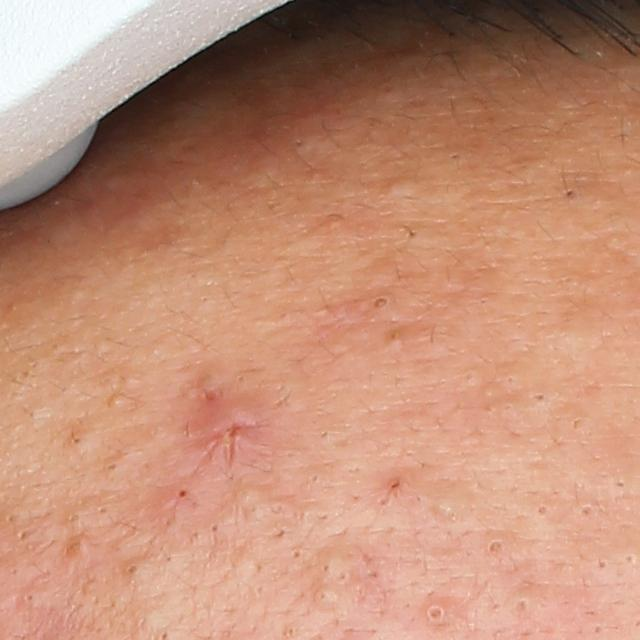comedo: (419, 598, 452, 630), (383, 173, 418, 201), (63, 430, 94, 456), (313, 585, 337, 610), (123, 559, 147, 583), (484, 537, 509, 559), (575, 501, 598, 522), (20, 590, 43, 610), (534, 501, 555, 520), (371, 293, 392, 312), (107, 392, 127, 410), (592, 556, 611, 574), (560, 184, 580, 201), (620, 550, 637, 567), (529, 390, 549, 404), (291, 544, 305, 559)
papule: (205, 405, 253, 459)
